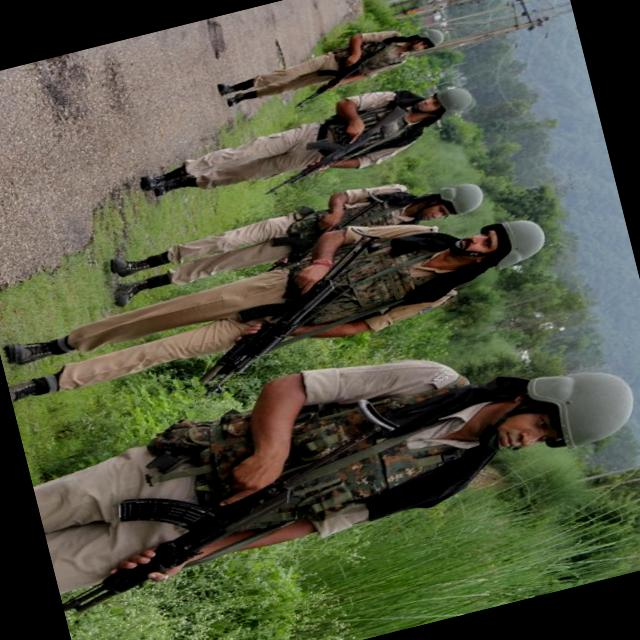long weapon: (32, 393, 426, 624), (156, 228, 394, 402), (244, 102, 434, 200), (286, 34, 390, 100)
